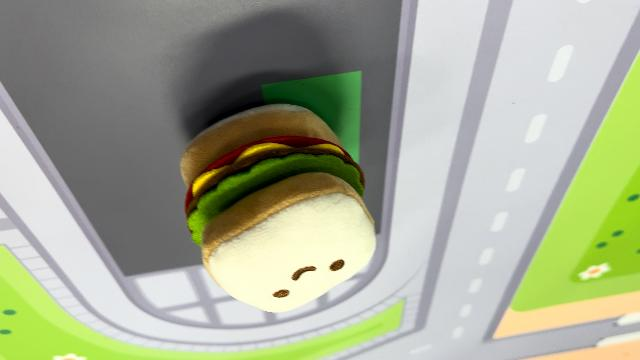sandwich: (176, 100, 380, 314)
